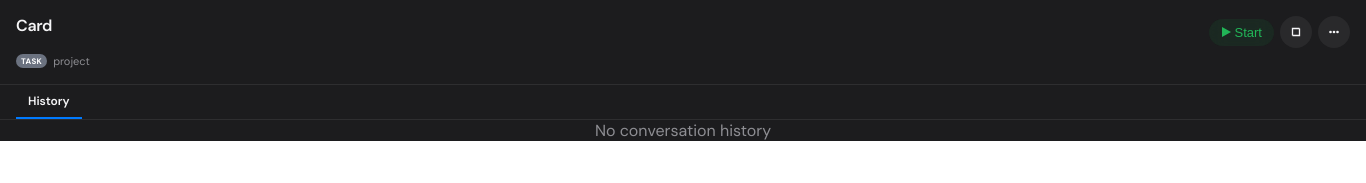
Test: CardDetailView › Actions › toggles actions menu
Step 1. Click the button with test id "actions-menu-trigger" → x=1334, y=32, box 1318,16 -> 1350,48
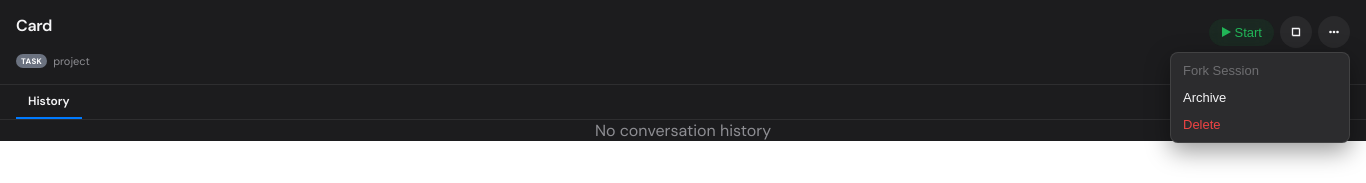
Expected: the menu with test id "actions-menu" is shown, 1170,52 -> 1350,143
